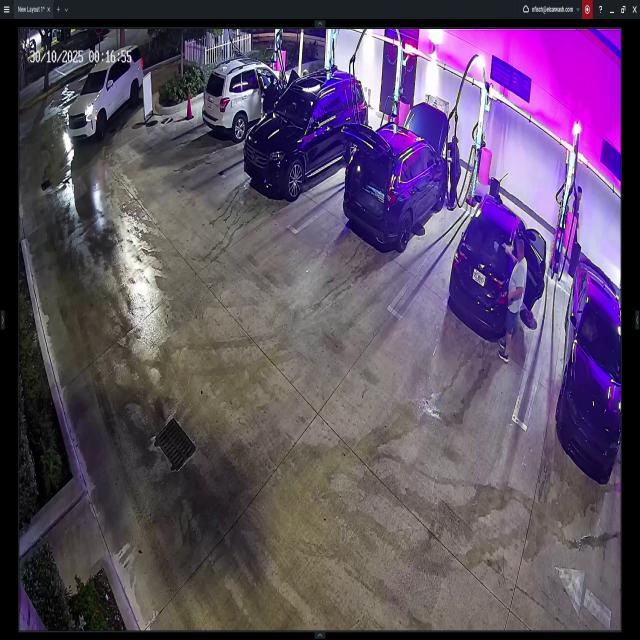Car: (244, 70, 368, 194), (346, 104, 448, 254), (449, 192, 547, 342), (558, 258, 622, 472), (206, 55, 296, 134), (66, 50, 140, 136)
